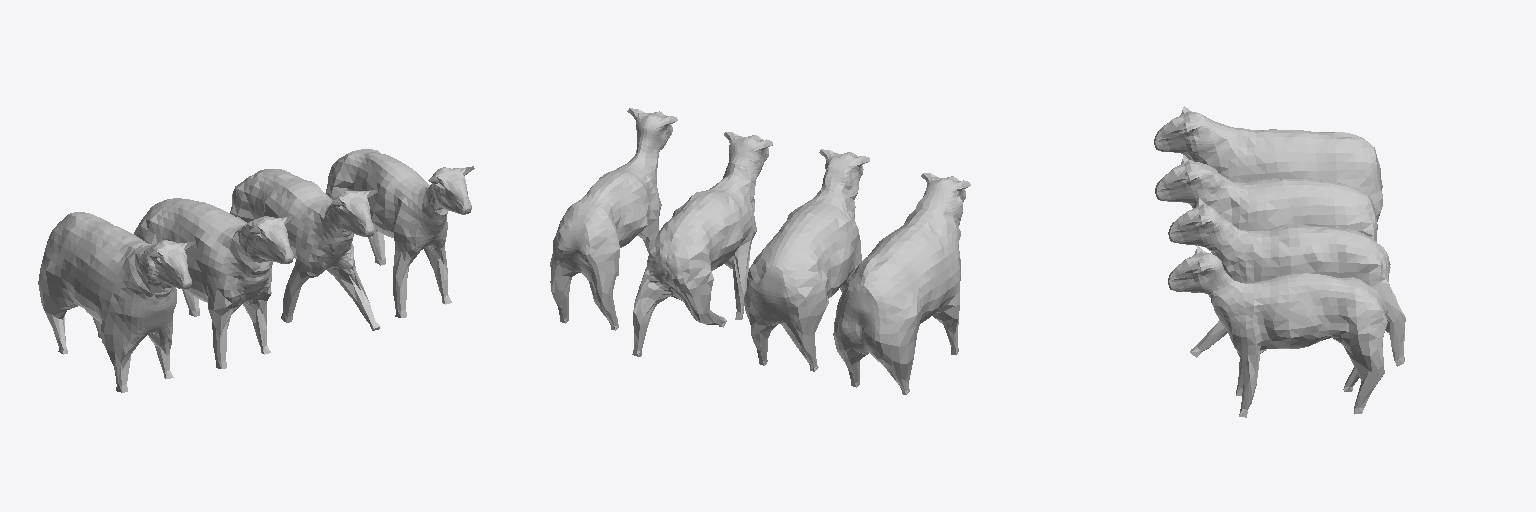
The model's file is sheepies_000001.obj.
3 views of the same model, side by side, from view 1: azimuth 30°, elevation 25°; view 2: azimuth 150°, elevation 25°; view 3: azimuth 270°, elevation 25° (orthographic).
Parts seen in each view (by area): view 1: sheep_4_Sphere.003, sheep_3_Sphere.001, sheep_1_Sphere.002, Sheep_2_Sphere; view 2: sheep_4_Sphere.003, sheep_3_Sphere.001, Sheep_2_Sphere, sheep_1_Sphere.002; view 3: sheep_1_Sphere.002, Sheep_2_Sphere, sheep_4_Sphere.003, sheep_3_Sphere.001.
Part boxes in pixels (x1,y1,x2,y2): sheep_4_Sphere.003: (38,212,195,392); sheep_3_Sphere.001: (134,198,294,368); sheep_1_Sphere.002: (326,149,474,317); Sheep_2_Sphere: (230,169,380,330); sheep_4_Sphere.003: (833,173,970,394); sheep_3_Sphere.001: (744,149,869,371); Sheep_2_Sphere: (632,132,772,356); sheep_1_Sphere.002: (550,108,677,330); sheep_1_Sphere.002: (1168,245,1387,417); Sheep_2_Sphere: (1168,198,1405,366); sheep_4_Sphere.003: (1154,106,1382,221); sheep_3_Sphere.001: (1155,155,1377,241).
Bounding box in the file's own units: 4.44 × 1.84 × 2.69.